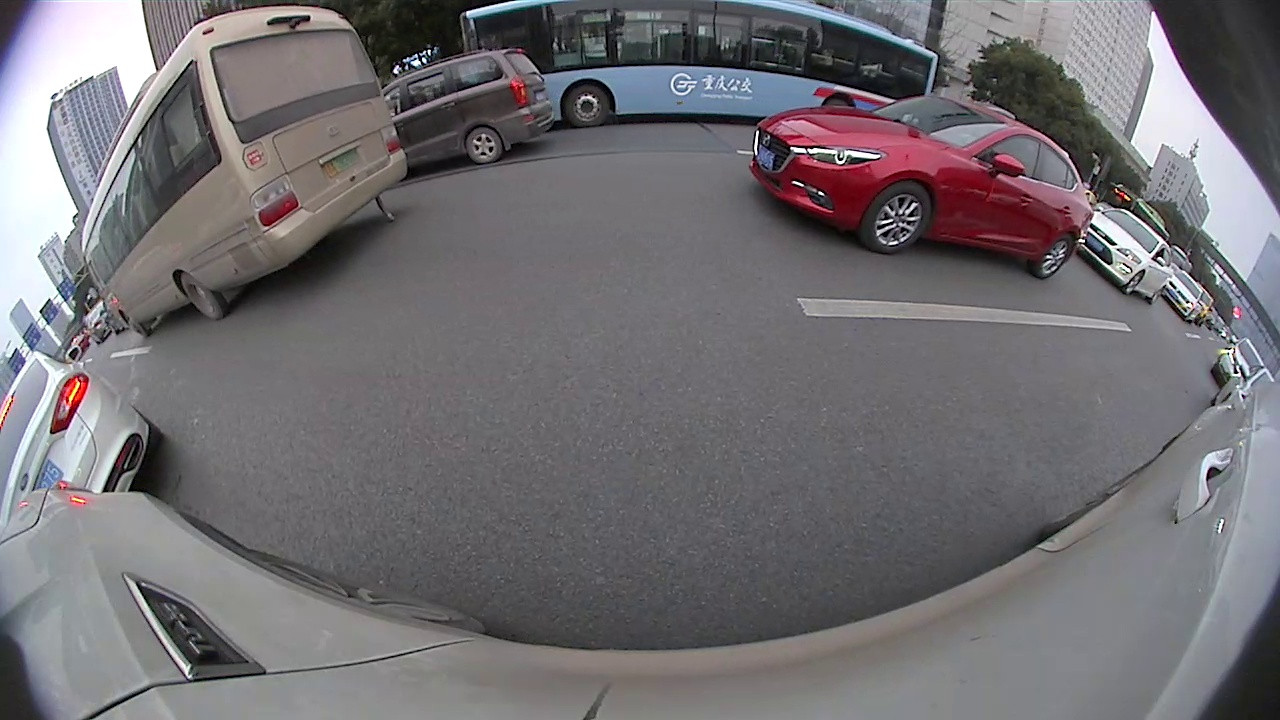bus: (83, 8, 408, 337), (461, 3, 935, 138)
car: (748, 98, 1091, 277), (1, 351, 163, 531), (387, 51, 554, 163), (1078, 208, 1172, 302)
front: (859, 180, 933, 255), (562, 82, 612, 129), (123, 311, 150, 338), (1123, 270, 1147, 296)
rear: (178, 271, 224, 319), (1036, 232, 1077, 279), (465, 125, 503, 163)
